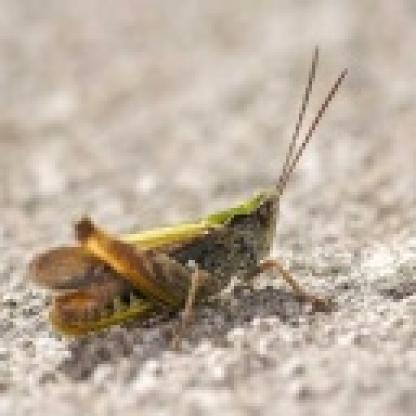grasshopper: (36, 44, 362, 348)
